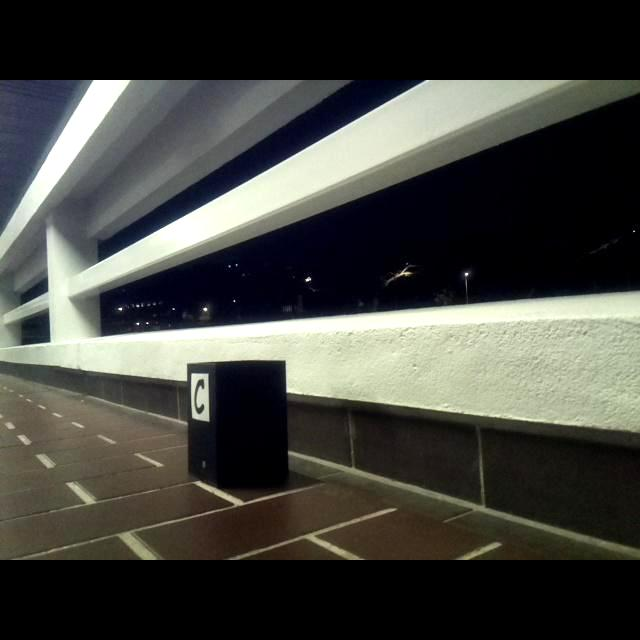C: (194, 379, 205, 415)
